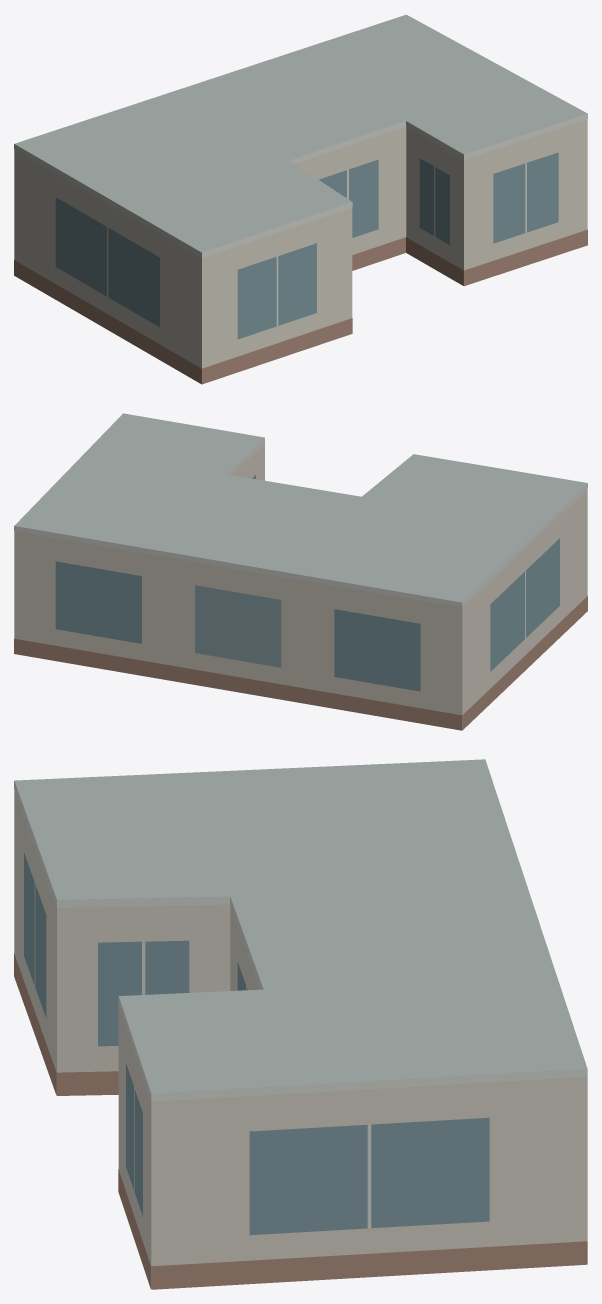
File: survey-upis-32629820.glb
3 renders of one model, top to bottom at view 1: azimuth 30°, elevation 25°; view 2: azimuth 150°, elevation 25°; view 3: azimuth 270°, elevation 25°, orthographic. The views are drawn at different scales.
Visible parts, largest first — view 1: survey-upis-32629820.tmp; view 2: survey-upis-32629820.tmp; view 3: survey-upis-32629820.tmp.
Part boxes in pixels (bbox=[...]): survey-upis-32629820.tmp: bbox=[14, 14, 587, 384]; survey-upis-32629820.tmp: bbox=[14, 413, 587, 730]; survey-upis-32629820.tmp: bbox=[14, 759, 587, 1289].
Size of the model in its own units: 11.19 by 3.05 by 8.1.
